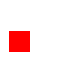square: (9, 31, 29, 51)
